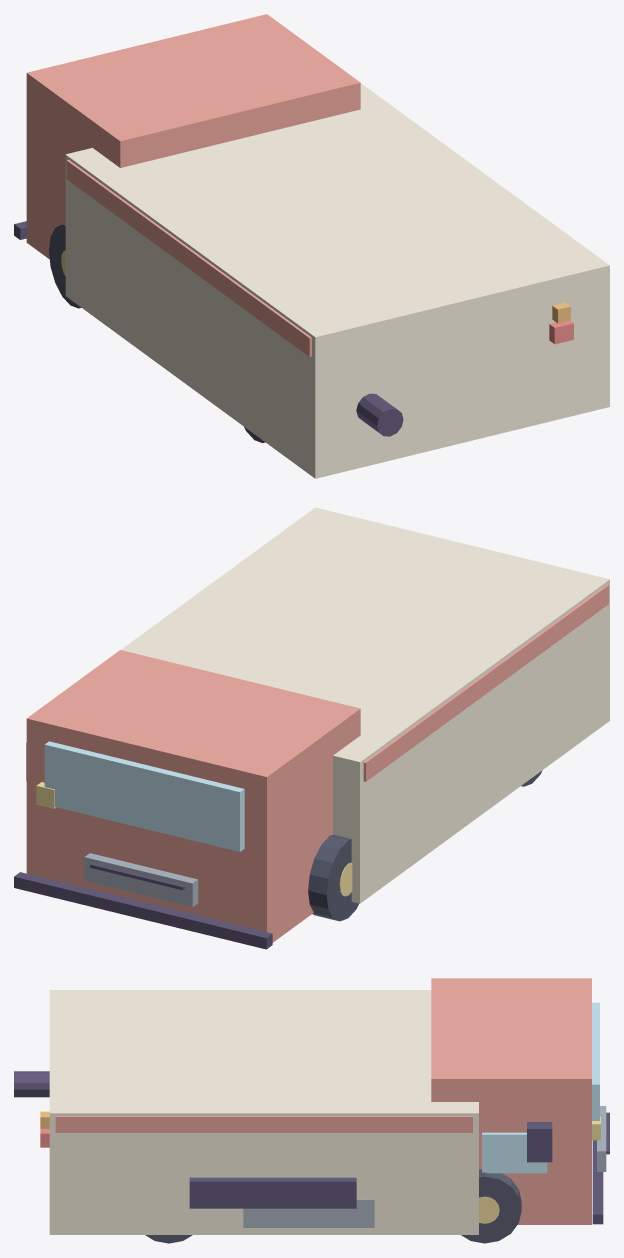
The model's file is player_truck_lod0.glb.
3 views of the same model, one above another, from view 1: azimuth 30°, elevation 25°; view 2: azimuth 150°, elevation 25°; view 3: azimuth 270°, elevation 25° (orthographic). The views are drawn at different scales.
Parts seen in each view (by area): view 1: Trailer_Body, Cab_Body, Trailer_Stripe, Exhaust, Wheel_1; view 2: Trailer_Body, Cab_Body, Windshield, Trailer_Stripe, Front_Bumper, Front_Grille, Wheel_1; view 3: Trailer_Body, Cab_Body, Trailer_Stripe, Trailer_Side_Outline, Fuel_Tank, Wheel_2, Cab_Side_Window, Mirror, Exhaust, Windshield, Front_Bumper, Front_Grille (+1 smaller).
Boxes of the visible parts, x1,y1,x2,y2 form: Trailer_Body: (65, 83, 609, 478); Cab_Body: (26, 14, 360, 259); Trailer_Stripe: (66, 160, 311, 356); Exhaust: (356, 393, 403, 436); Wheel_1: (49, 223, 81, 308); Trailer_Body: (121, 507, 609, 903); Cab_Body: (26, 650, 360, 942); Windshield: (44, 741, 244, 851); Trailer_Stripe: (363, 584, 608, 781); Front_Bumper: (14, 872, 272, 949); Front_Grille: (84, 853, 198, 907); Wheel_1: (308, 834, 358, 921); Trailer_Body: (49, 990, 478, 1234); Cab_Body: (431, 978, 591, 1224); Trailer_Stripe: (55, 1116, 472, 1132); Trailer_Side_Outline: (189, 1177, 356, 1208); Fuel_Tank: (243, 1199, 374, 1227); Wheel_2: (461, 1169, 521, 1243); Cab_Side_Window: (482, 1132, 547, 1173); Mirror: (527, 1122, 552, 1162); Exhaust: (14, 1071, 49, 1097); Windshield: (592, 1002, 599, 1120); Front_Bumper: (592, 1140, 603, 1224); Front_Grille: (597, 1106, 606, 1171).
Bounding box in the file's own units: 5.13 × 2.9 × 10.
